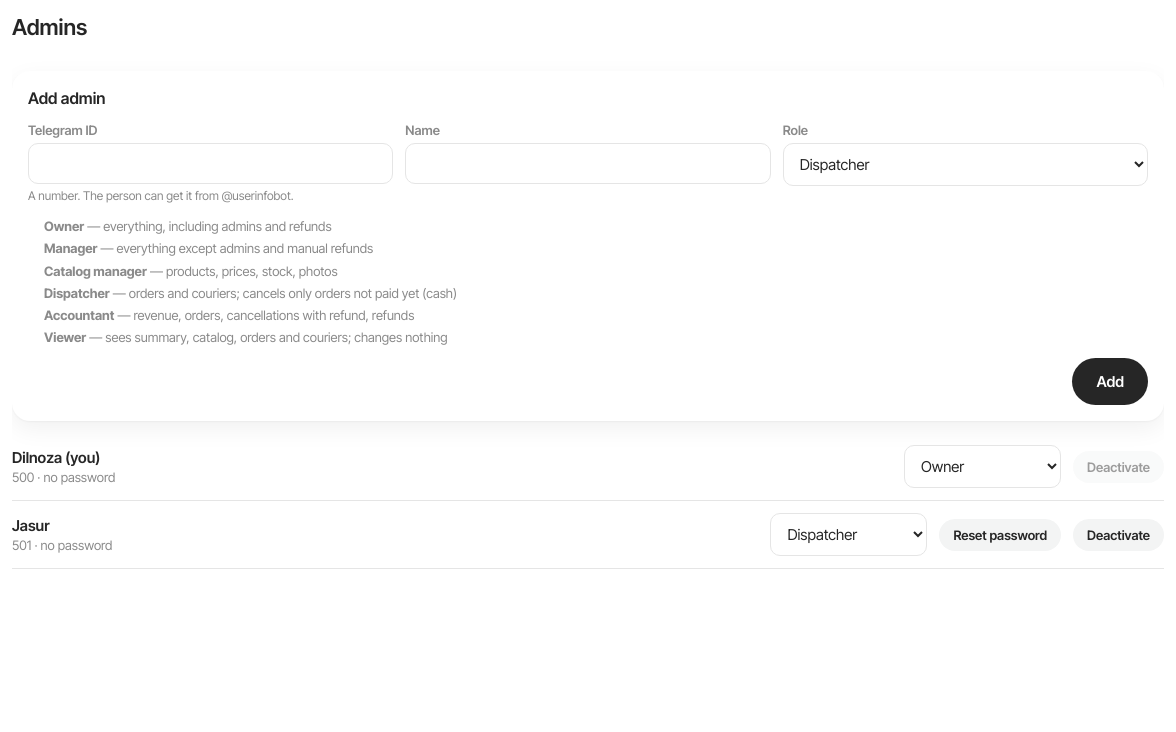
AdminsScreen › explains why the last owner cannot be demoted
Select "Dispatcher" in the dropdown named "Role of Dilnoza": (983, 467) 904,445 -> 1061,488
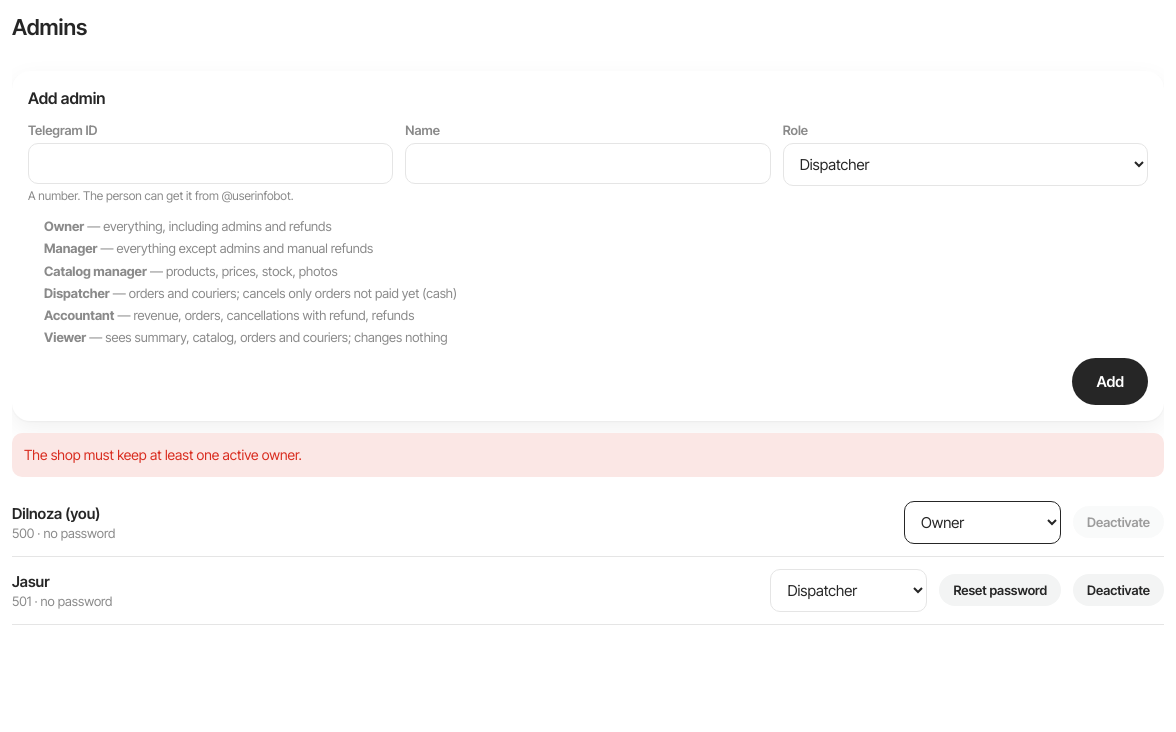
Check: the message shows "at least one active owner", box 24,446 -> 302,463
